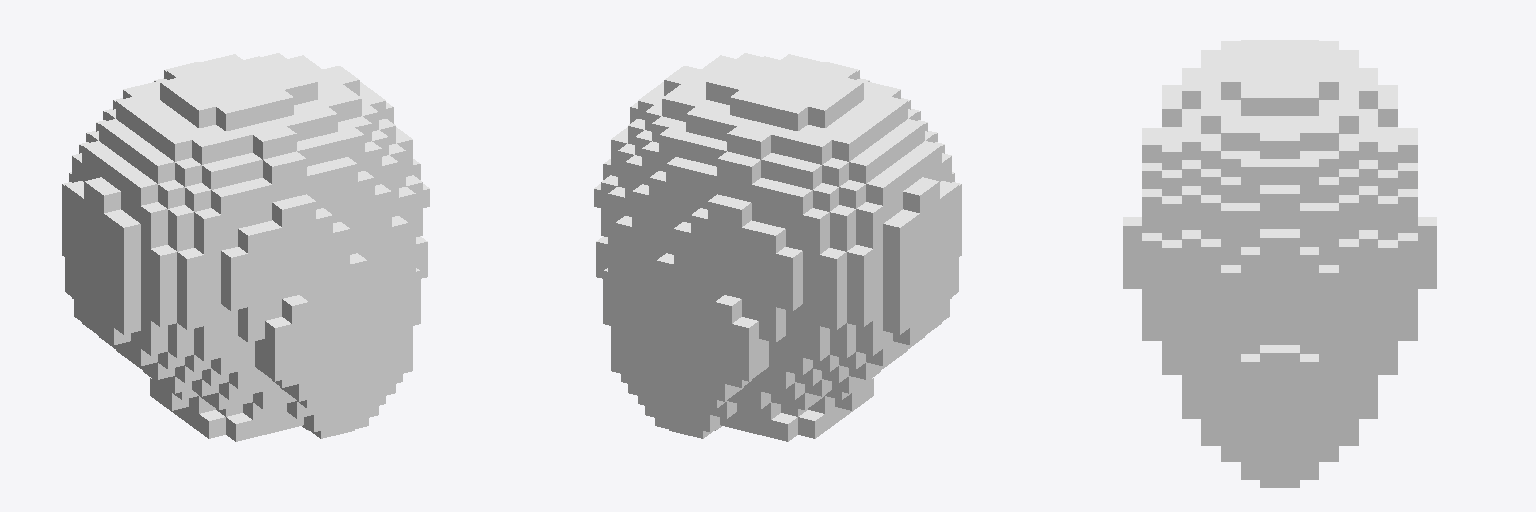
The model's file is Female_Head1.obj.
3 views of the same model, side by side, from view 1: azimuth 30°, elevation 25°; view 2: azimuth 150°, elevation 25°; view 3: azimuth 270°, elevation 25° (orthographic).
Visible parts, largest first — view 1: Female_Head1; view 2: Female_Head1; view 3: Female_Head1.
Boxes of the visible parts, x1,y1,x2,y2 form: Female_Head1: [62, 53, 429, 441]; Female_Head1: [594, 53, 961, 441]; Female_Head1: [1123, 40, 1436, 487].
Size of the model in its own units: 19 by 20 by 16.